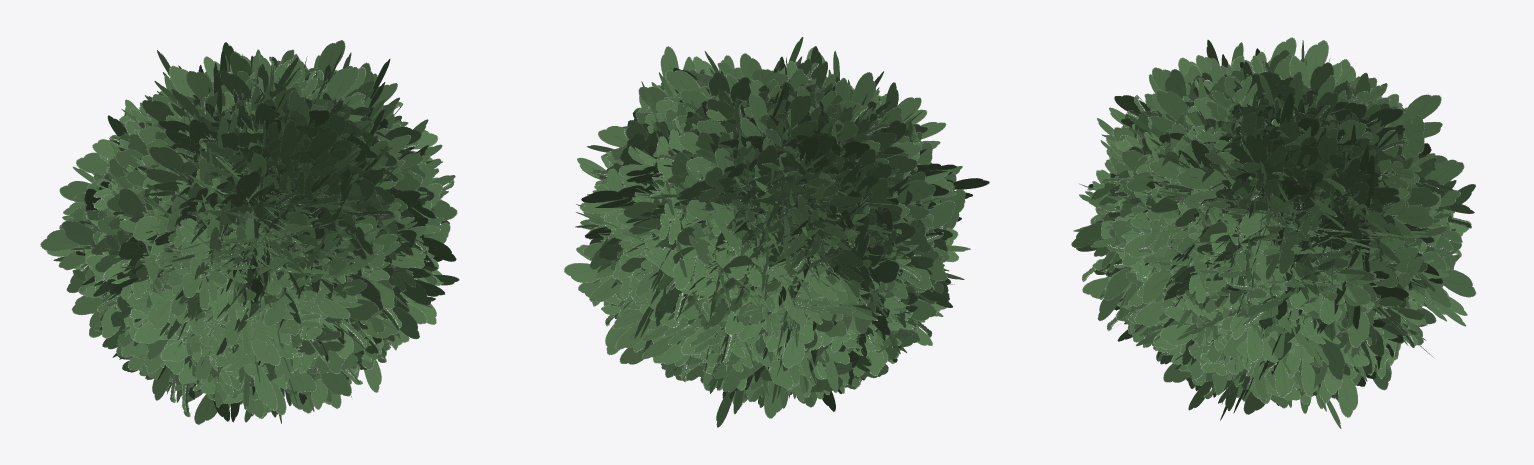
The model's file is Bush.fbx.
3 views of the same model, side by side, from view 1: azimuth 30°, elevation 25°; view 2: azimuth 150°, elevation 25°; view 3: azimuth 270°, elevation 25° (orthographic). The views are drawn at different scales.
Visible parts, largest first — view 1: Bush; view 2: Bush; view 3: Bush.
Boxes of the visible parts, x1,y1,x2,y2 form: Bush: [40, 40, 459, 424]; Bush: [563, 36, 989, 427]; Bush: [1071, 37, 1476, 428].
Size of the model in its own units: 14.34 by 12.91 by 14.25.
Materials: 1 (1 with a texture image).
